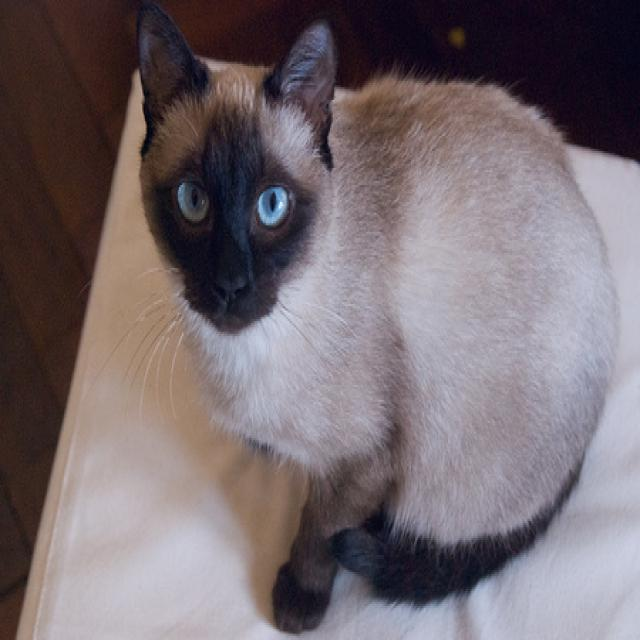Siamese: (134, 0, 623, 638)
